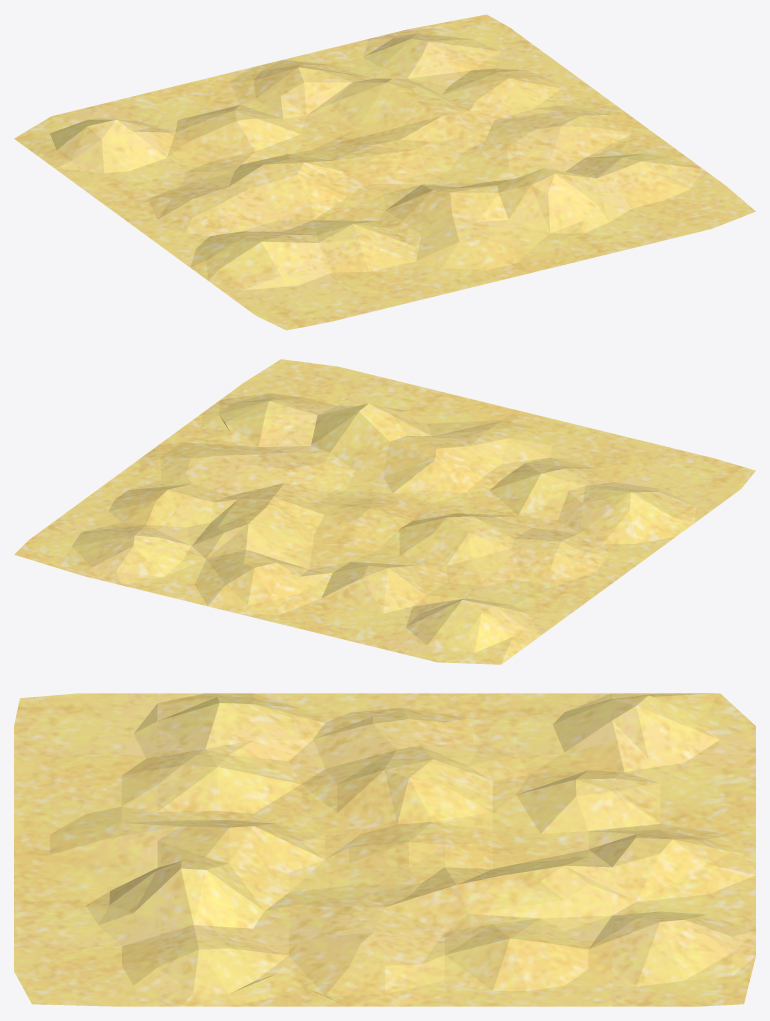
Rendered from sandhill5.fbx.
3 renders of one model, top to bottom at view 1: azimuth 30°, elevation 25°; view 2: azimuth 150°, elevation 25°; view 3: azimuth 270°, elevation 25°, orthographic. The views are drawn at different scales.
Visible parts, largest first — view 1: Grid#2, Grid#3; view 2: Grid#2, Grid#3; view 3: Grid#2, Grid#3.
Part boxes in pixels (x1,y1,x2,y2): Grid#2: [14, 14, 755, 330]; Grid#3: [16, 17, 748, 311]; Grid#2: [14, 359, 755, 664]; Grid#3: [31, 361, 737, 663]; Grid#2: [14, 693, 755, 1006]; Grid#3: [14, 693, 755, 1006].
Bounding box in the file's own units: 10 × 0.6395 × 10.
1 material, 1 textured.
